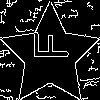F: (25, 30, 68, 61)
